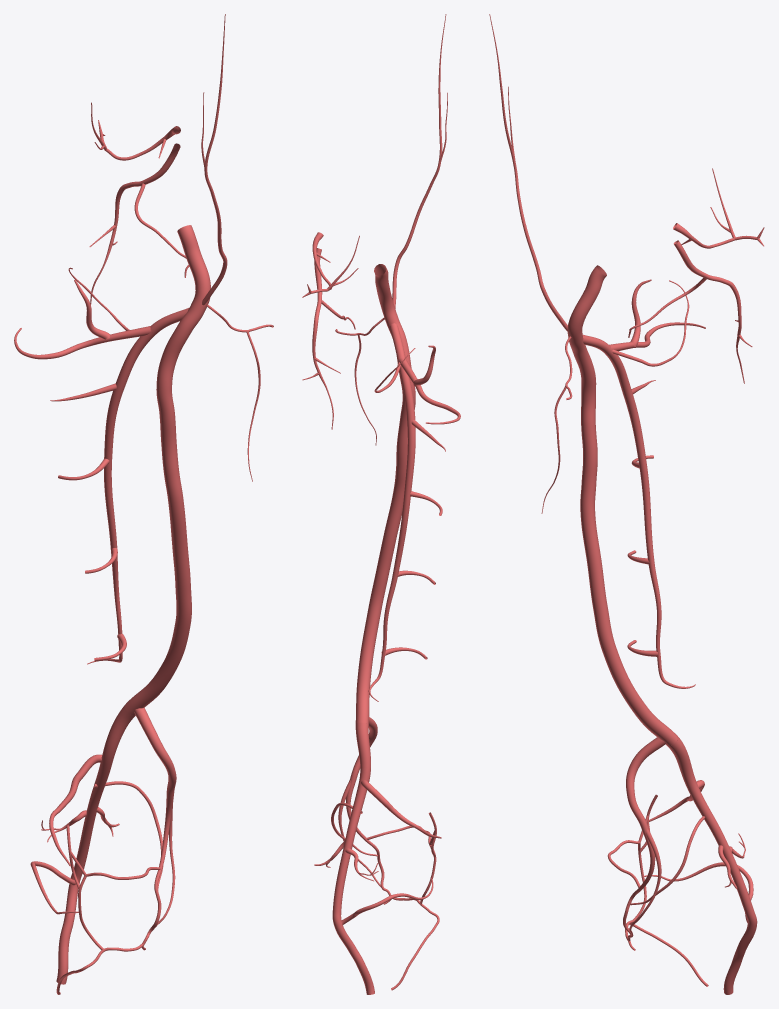
Rendered from arteries.glb.
The picture shows the model from 3 angles, left to right: view 1: azimuth 30°, elevation 25°; view 2: azimuth 150°, elevation 25°; view 3: azimuth 270°, elevation 25°; orthographic projection. The views are drawn at different scales.
Parts seen in each view (by area): view 1: Femoral artery.r, Popliteal artery.r, Deep femoral artery.r, Superior medial genicular artery.r, Patellar anastomosis.r, Lateral circumflex femoral artery.r, Superficial epigastric artery.r, Perforating femoral arteries.r, Inferior gluteal artery.r, Superior lateral genicular artery.r, Superior gluteal artery.r, Superficial external pudendal artery.r; view 2: Femoral artery.r, Popliteal artery.r, Deep femoral artery.r, Patellar anastomosis.r, Superior medial genicular artery.r, Superficial epigastric artery.r, Lateral circumflex femoral artery.r, Inferior gluteal artery.r, Perforating femoral arteries.r, Superior gluteal artery.r, Superior lateral genicular artery.r, Inferior lateral genicular artery.r (+1 smaller); view 3: Femoral artery.r, Deep femoral artery.r, Popliteal artery.r, Superior medial genicular artery.r, Patellar anastomosis.r, Superficial epigastric artery.r, Lateral circumflex femoral artery.r, Inferior gluteal artery.r, Superior gluteal artery.r.
Boxes of the visible parts, left/top/right/bottom form: Femoral artery.r: left=125, top=225, right=210, bottom=715; Popliteal artery.r: left=56, top=704, right=135, bottom=984; Deep femoral artery.r: left=87, top=307, right=189, bottom=664; Superior medial genicular artery.r: left=94, top=707, right=176, bottom=930; Patellar anastomosis.r: left=56, top=825, right=161, bottom=994; Lateral circumflex femoral artery.r: left=14, top=279, right=152, bottom=359; Superficial epigastric artery.r: left=201, top=14, right=227, bottom=305; Perforating femoral arteries.r: left=50, top=383, right=126, bottom=661; Inferior gluteal artery.r: left=89, top=143, right=180, bottom=304; Superior lateral genicular artery.r: left=49, top=754, right=102, bottom=866; Superior gluteal artery.r: left=91, top=102, right=180, bottom=160; Superficial external pudendal artery.r: left=207, top=305, right=273, bottom=481; Femoral artery.r: left=355, top=264, right=415, bottom=723; Popliteal artery.r: left=332, top=722, right=374, bottom=994; Deep femoral artery.r: left=368, top=323, right=415, bottom=701; Patellar anastomosis.r: left=365, top=812, right=439, bottom=990; Superior medial genicular artery.r: left=331, top=717, right=381, bottom=887; Superficial epigastric artery.r: left=392, top=14, right=447, bottom=308; Lateral circumflex femoral artery.r: left=399, top=345, right=460, bottom=424; Inferior gluteal artery.r: left=302, top=248, right=340, bottom=429; Perforating femoral arteries.r: left=381, top=420, right=445, bottom=659; Superior gluteal artery.r: left=302, top=232, right=359, bottom=297; Superior lateral genicular artery.r: left=361, top=780, right=441, bottom=838; Inferior lateral genicular artery.r: left=341, top=878, right=433, bottom=924; Femoral artery.r: left=567, top=265, right=677, bottom=746; Deep femoral artery.r: left=582, top=334, right=695, bottom=688; Popliteal artery.r: left=667, top=735, right=757, bottom=994; Superior medial genicular artery.r: left=626, top=737, right=705, bottom=935; Patellar anastomosis.r: left=607, top=794, right=708, bottom=986; Superficial epigastric artery.r: left=489, top=14, right=567, bottom=331; Lateral circumflex femoral artery.r: left=609, top=279, right=705, bottom=351; Inferior gluteal artery.r: left=673, top=240, right=752, bottom=383; Superior gluteal artery.r: left=673, top=168, right=764, bottom=248.
Size of the model in its own units: 0.1377 by 0.6941 by 0.1737.
